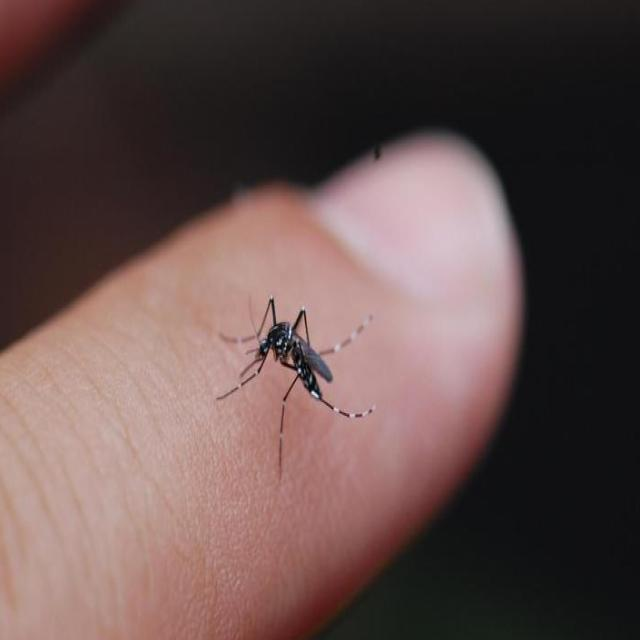Mosquito: (213, 286, 378, 473)
